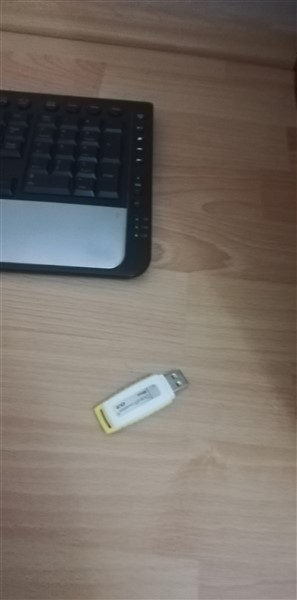flash disk: (87, 366, 197, 437)
klavye: (1, 92, 166, 277)
